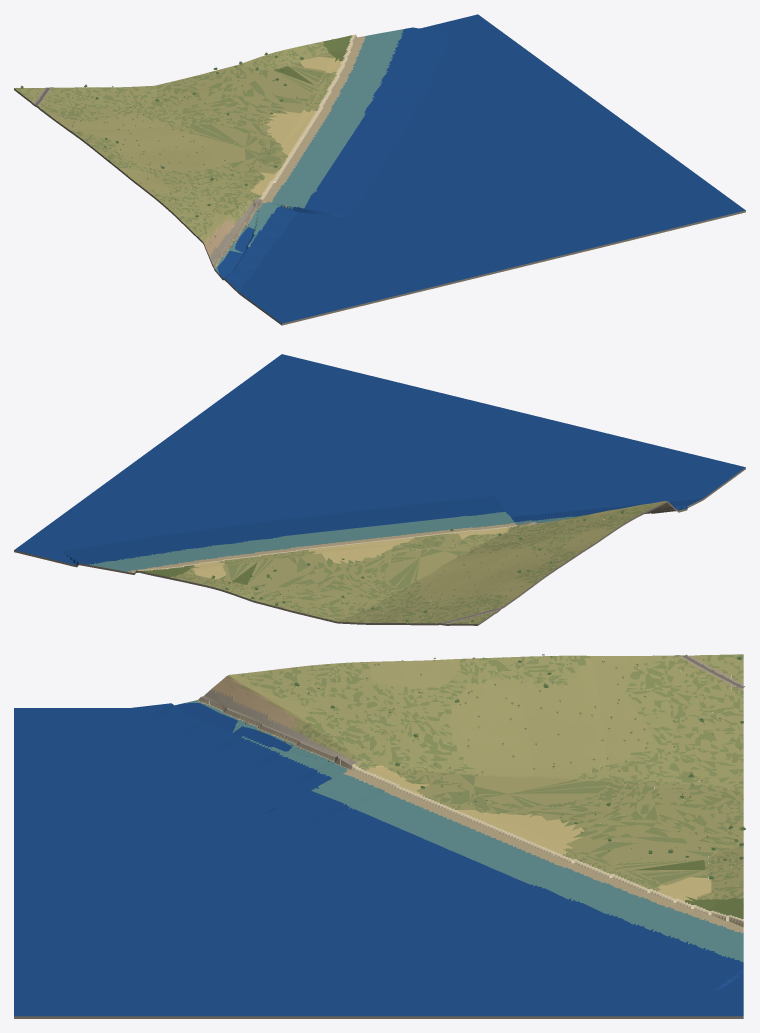
The model's file is parca_+14_-5-yakin.glb.
3 views of the same model, one above another, from view 1: azimuth 30°, elevation 25°; view 2: azimuth 150°, elevation 25°; view 3: azimuth 270°, elevation 25° (orthographic). The views are drawn at different scales.
Parts seen in each view (by area): view 1: parca_+14_-5_arazi, parca_+14_-5_bitkiler; view 2: parca_+14_-5_arazi, parca_+14_-5_bitkiler; view 3: parca_+14_-5_arazi, parca_+14_-5_bitkiler.
Boxes of the visible parts, x1,y1,x2,y2 form: parca_+14_-5_arazi: (14,14,745,325); parca_+14_-5_bitkiler: (20,39,348,243); parca_+14_-5_arazi: (14,354,745,625); parca_+14_-5_bitkiler: (159,504,651,622); parca_+14_-5_arazi: (14,654,743,1018); parca_+14_-5_bitkiler: (231,654,745,915).
Size of the model in its own units: 1003 by 88.77 by 1003.
